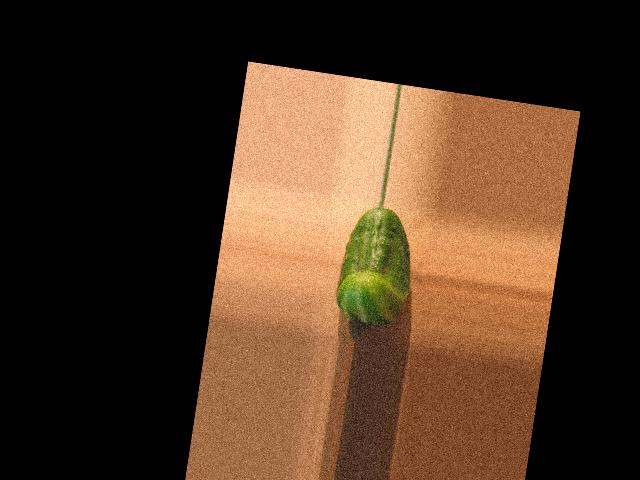cucumber: (331, 202, 420, 328)
